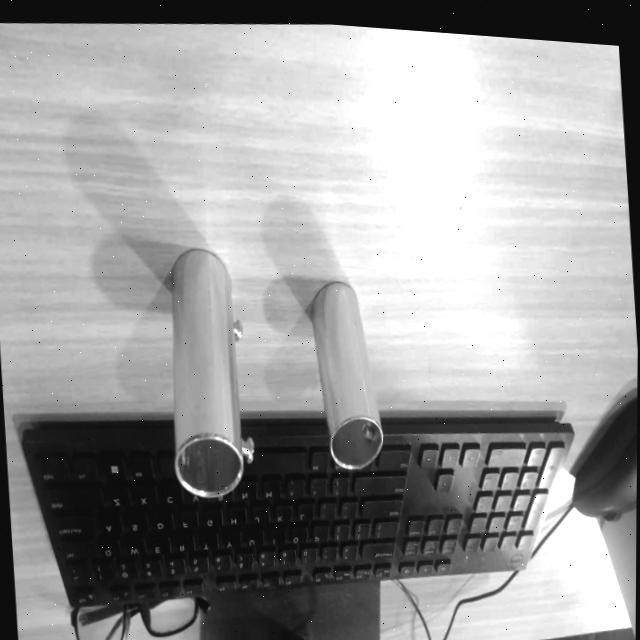Co_Lon: (159, 246, 251, 498)
Co_Nho: (297, 277, 387, 472)
